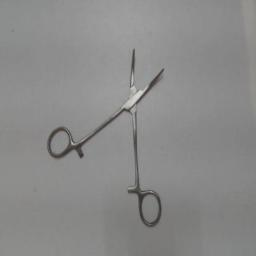Crile Artery Forceps: (44, 44, 168, 230)
